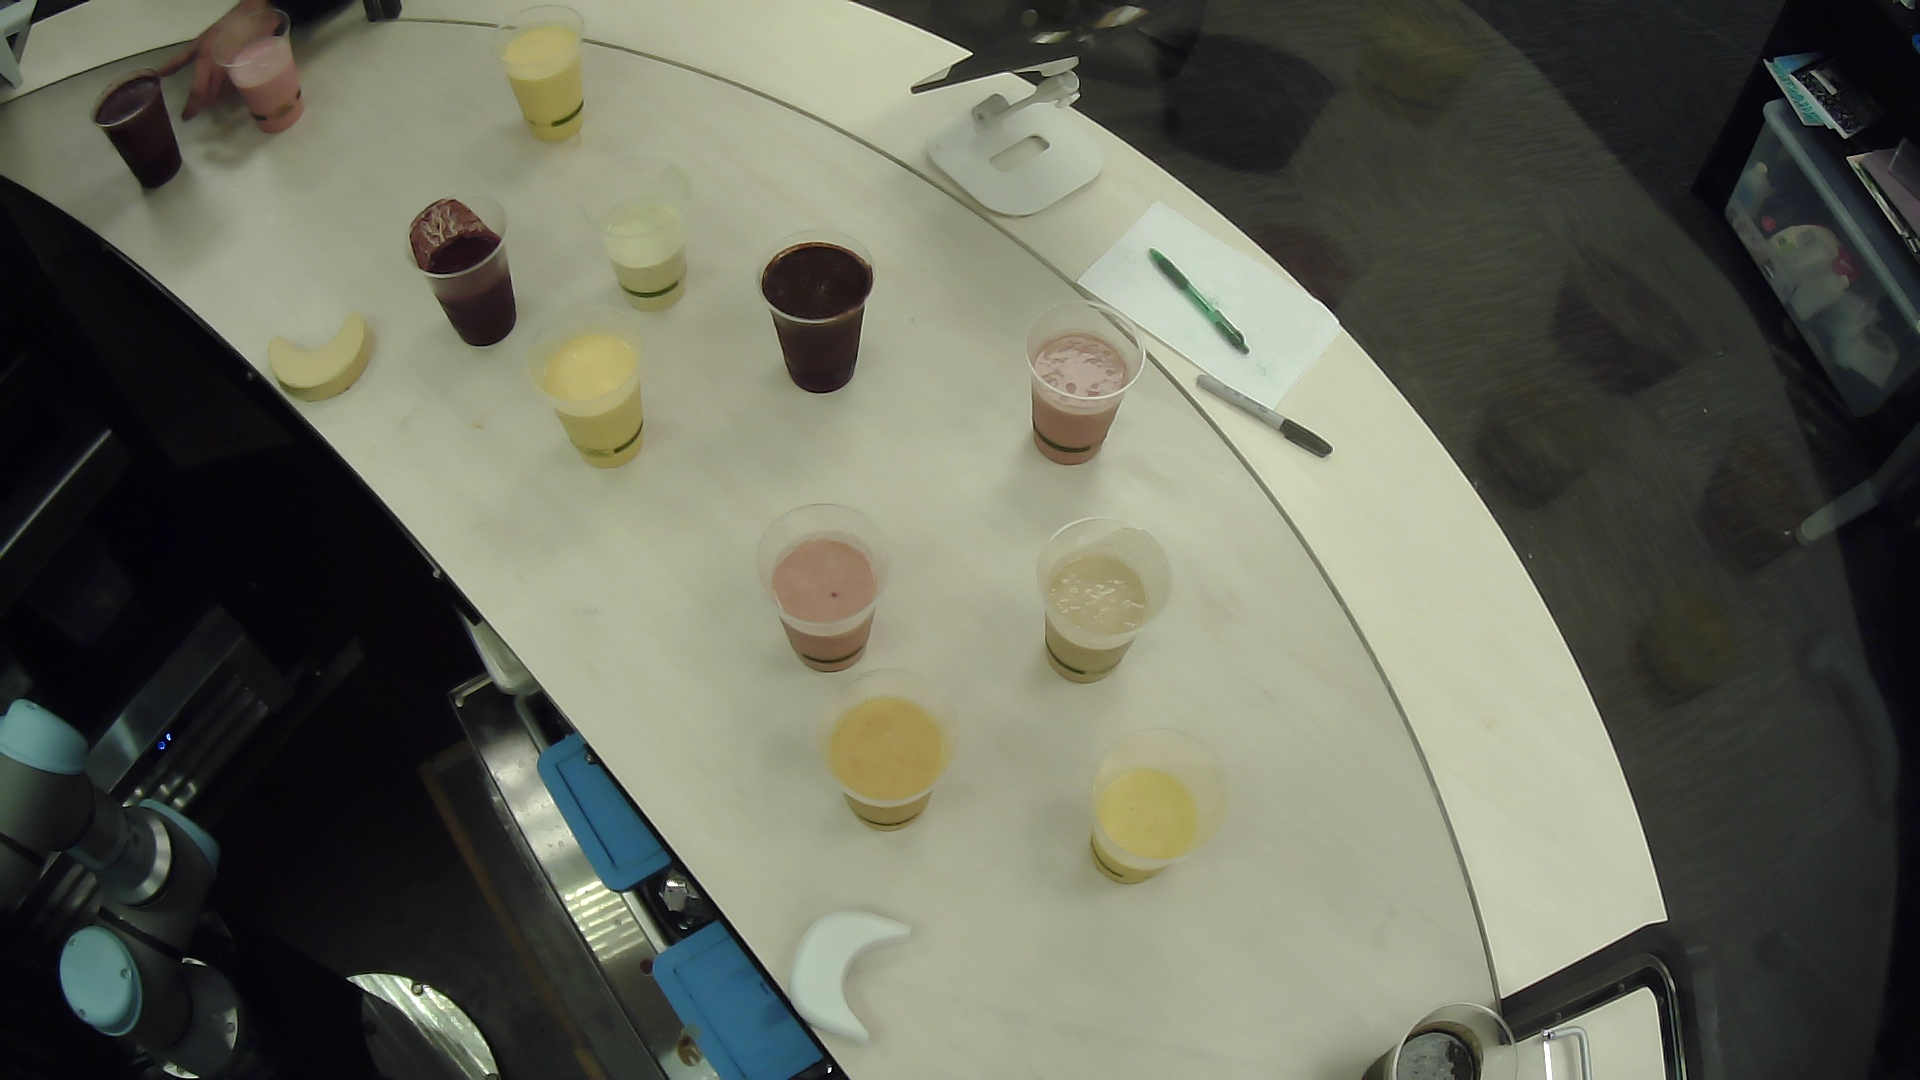Deliver: (770, 882, 945, 1056), (251, 286, 393, 419)
Full_cup: (1067, 709, 1240, 909), (1023, 510, 1193, 698), (741, 502, 902, 684), (738, 223, 891, 411), (1335, 957, 1563, 1080), (812, 665, 971, 841), (1004, 295, 1155, 479), (562, 144, 705, 324), (517, 309, 667, 477), (386, 185, 538, 348), (62, 55, 208, 204), (483, 1, 624, 154), (196, 11, 335, 129)
